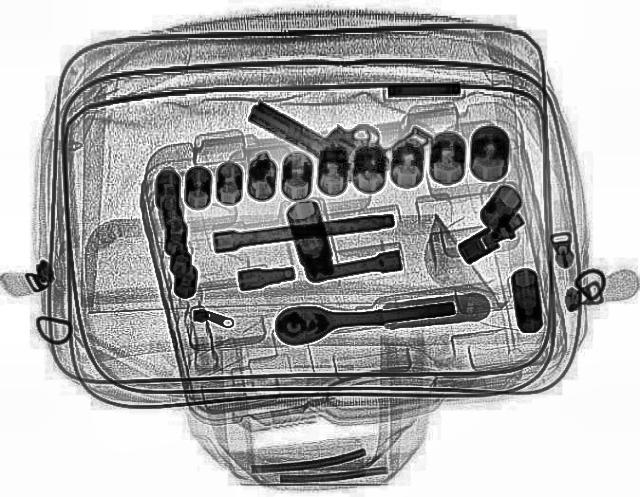Gun: (238, 63, 436, 189)
